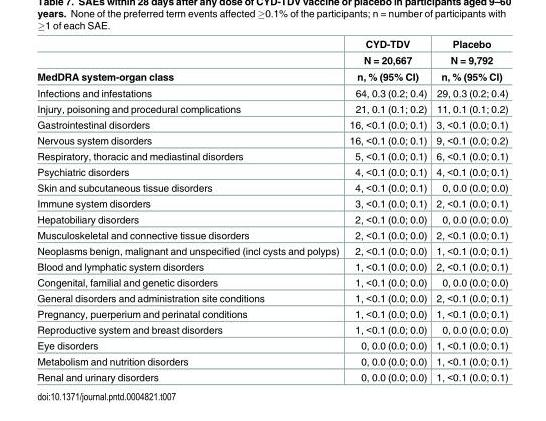table: (36, 37, 507, 382)
table column: (36, 37, 343, 382), (343, 37, 430, 382), (430, 37, 507, 382)
table column header: (36, 37, 507, 84)
table row: (36, 67, 507, 84), (36, 51, 507, 67), (36, 84, 507, 100), (36, 100, 507, 116), (36, 131, 507, 147), (36, 147, 507, 163), (36, 163, 507, 179), (36, 179, 507, 195), (36, 210, 507, 226), (36, 226, 507, 242), (36, 242, 507, 258), (36, 258, 507, 274), (36, 289, 507, 305), (36, 305, 507, 321), (36, 321, 507, 337), (36, 352, 507, 368), (36, 116, 507, 131), (36, 195, 507, 210), (36, 274, 507, 289), (36, 337, 507, 352), (36, 37, 507, 51), (36, 368, 507, 382)
table spanning cell: (36, 37, 343, 84), (343, 37, 430, 84), (430, 37, 507, 84)
